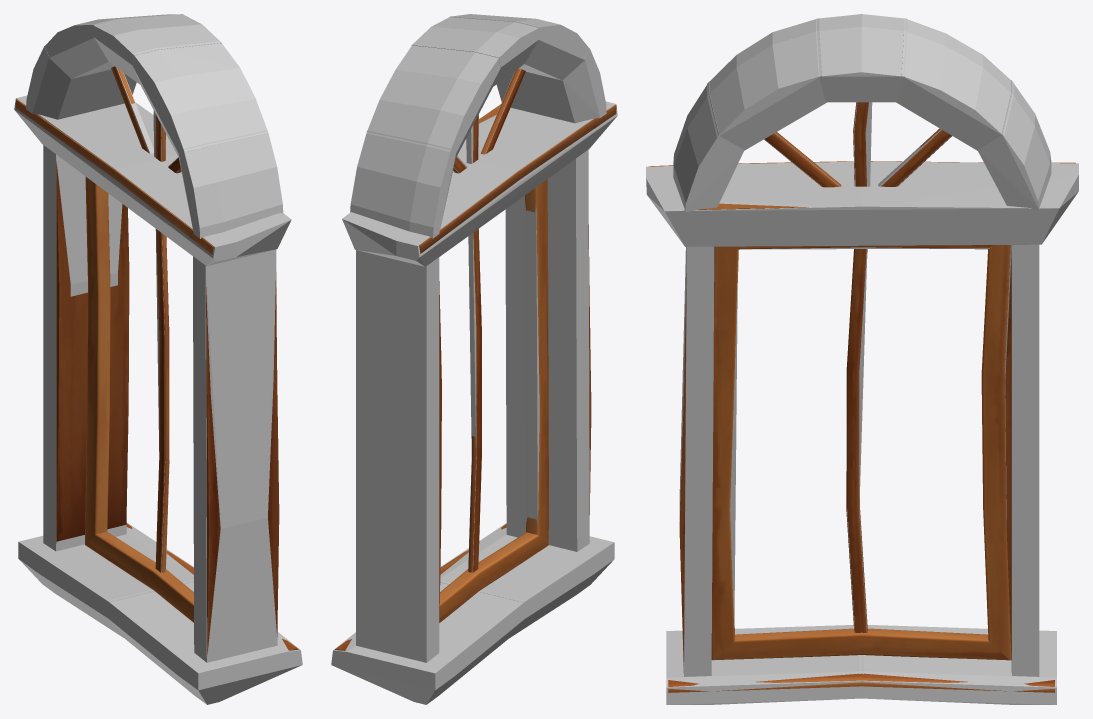
File: SM_PropWindow01TypeG_2_2.fbx
3 views of the same model, side by side, from view 1: azimuth 30°, elevation 25°; view 2: azimuth 150°, elevation 25°; view 3: azimuth 270°, elevation 25° (orthographic). The views are drawn at different scales.
Visible parts, largest first — view 1: SM_PropWindow01TypeG_2_2_ConvexHulls, SM_PropWindow01TypeG_2_2; view 2: SM_PropWindow01TypeG_2_2_ConvexHulls, SM_PropWindow01TypeG_2_2; view 3: SM_PropWindow01TypeG_2_2_ConvexHulls, SM_PropWindow01TypeG_2_2.
Part boxes in pixels (<box>): SM_PropWindow01TypeG_2_2_ConvexHulls: <box>14,14,302,704</box>; SM_PropWindow01TypeG_2_2: <box>16,66,298,654</box>; SM_PropWindow01TypeG_2_2_ConvexHulls: <box>331,14,617,704</box>; SM_PropWindow01TypeG_2_2: <box>335,68,616,650</box>; SM_PropWindow01TypeG_2_2_ConvexHulls: <box>646,14,1078,704</box>; SM_PropWindow01TypeG_2_2: <box>649,102,1075,692</box>.
Bounding box in the file's own units: 45.48 × 150 × 254.
2 materials, 1 textured.
